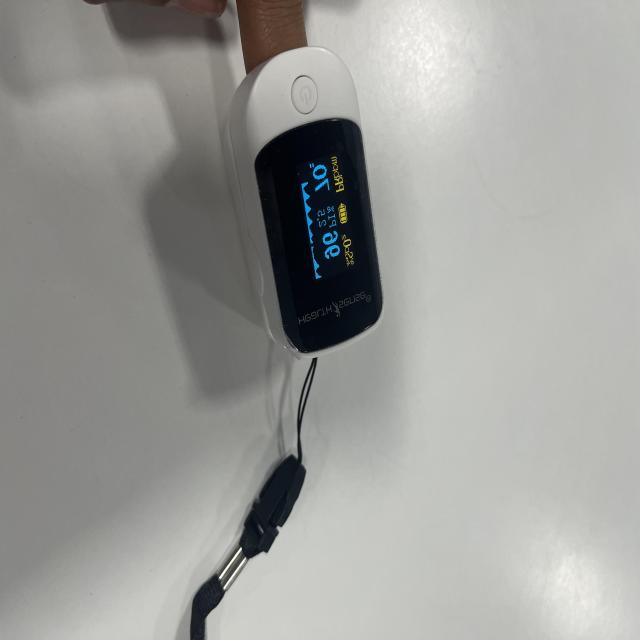spo2: (223, 46, 385, 359)
